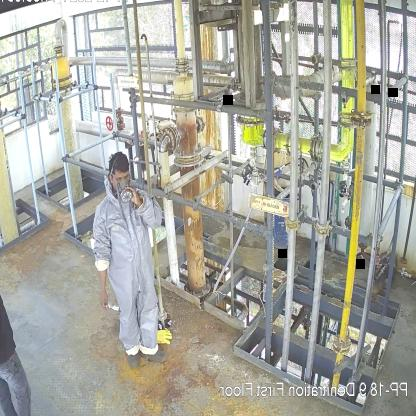no_glove: (100, 265, 111, 313)
no_goggles: (116, 171, 132, 184)
